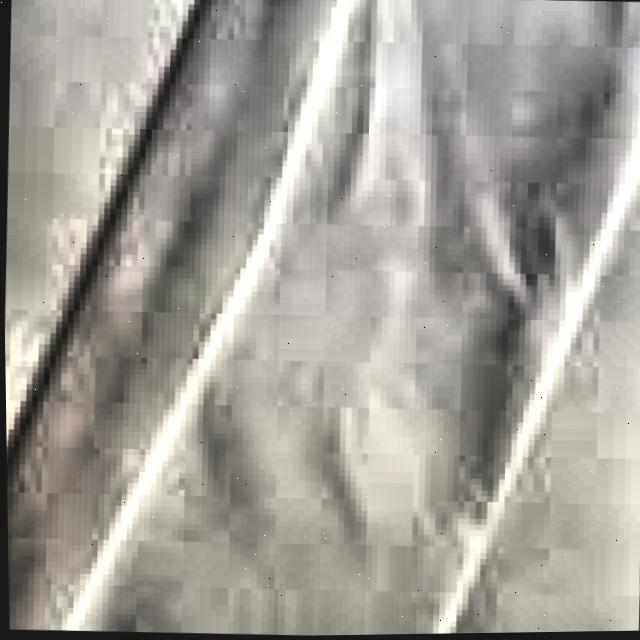paper: (6, 0, 640, 636)
